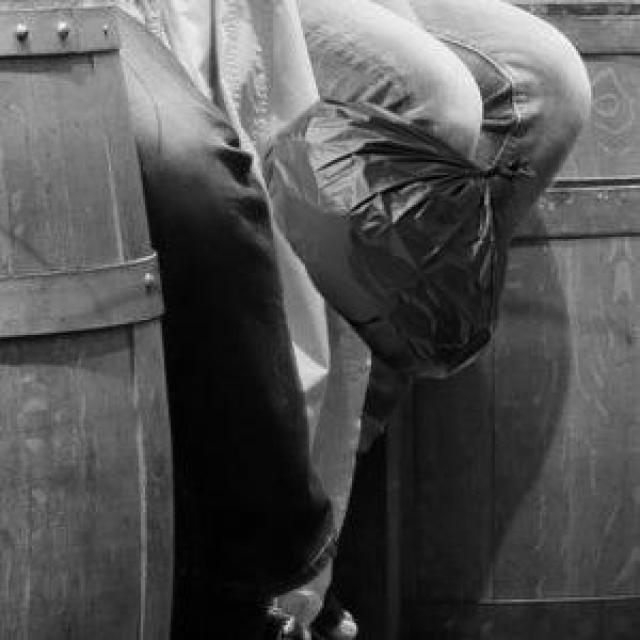miscellaneous trash: (256, 96, 531, 373)
